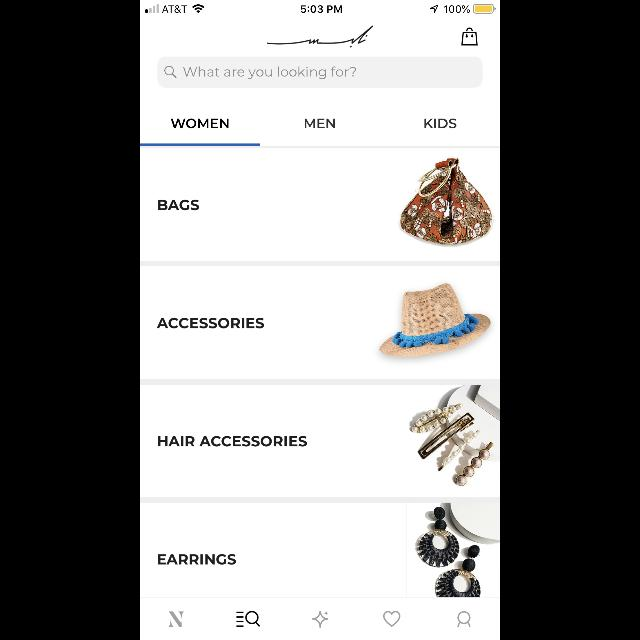icon: (236, 610, 260, 628), (460, 28, 478, 46), (384, 610, 401, 628), (312, 610, 328, 628), (168, 611, 184, 627), (458, 611, 470, 627), (165, 66, 177, 78)
image: (410, 385, 500, 487), (380, 283, 490, 357), (400, 158, 492, 245), (416, 503, 500, 597), (267, 26, 373, 48)
input: (158, 58, 482, 88)
text: (184, 66, 356, 80), (158, 436, 308, 446), (158, 317, 264, 328), (158, 554, 236, 566), (171, 119, 229, 129), (158, 200, 200, 210), (425, 118, 457, 128), (305, 119, 335, 129)
uppertaskbar: (140, 0, 500, 14)
